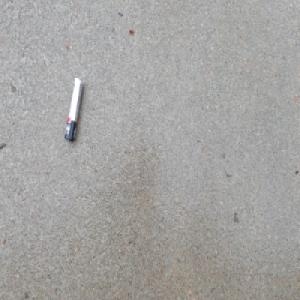Battery: (62, 76, 83, 143)
